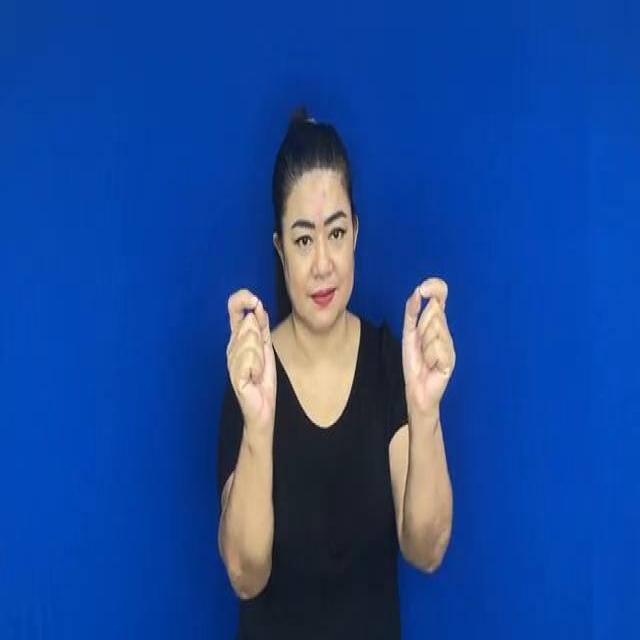crab: (218, 273, 470, 417)
